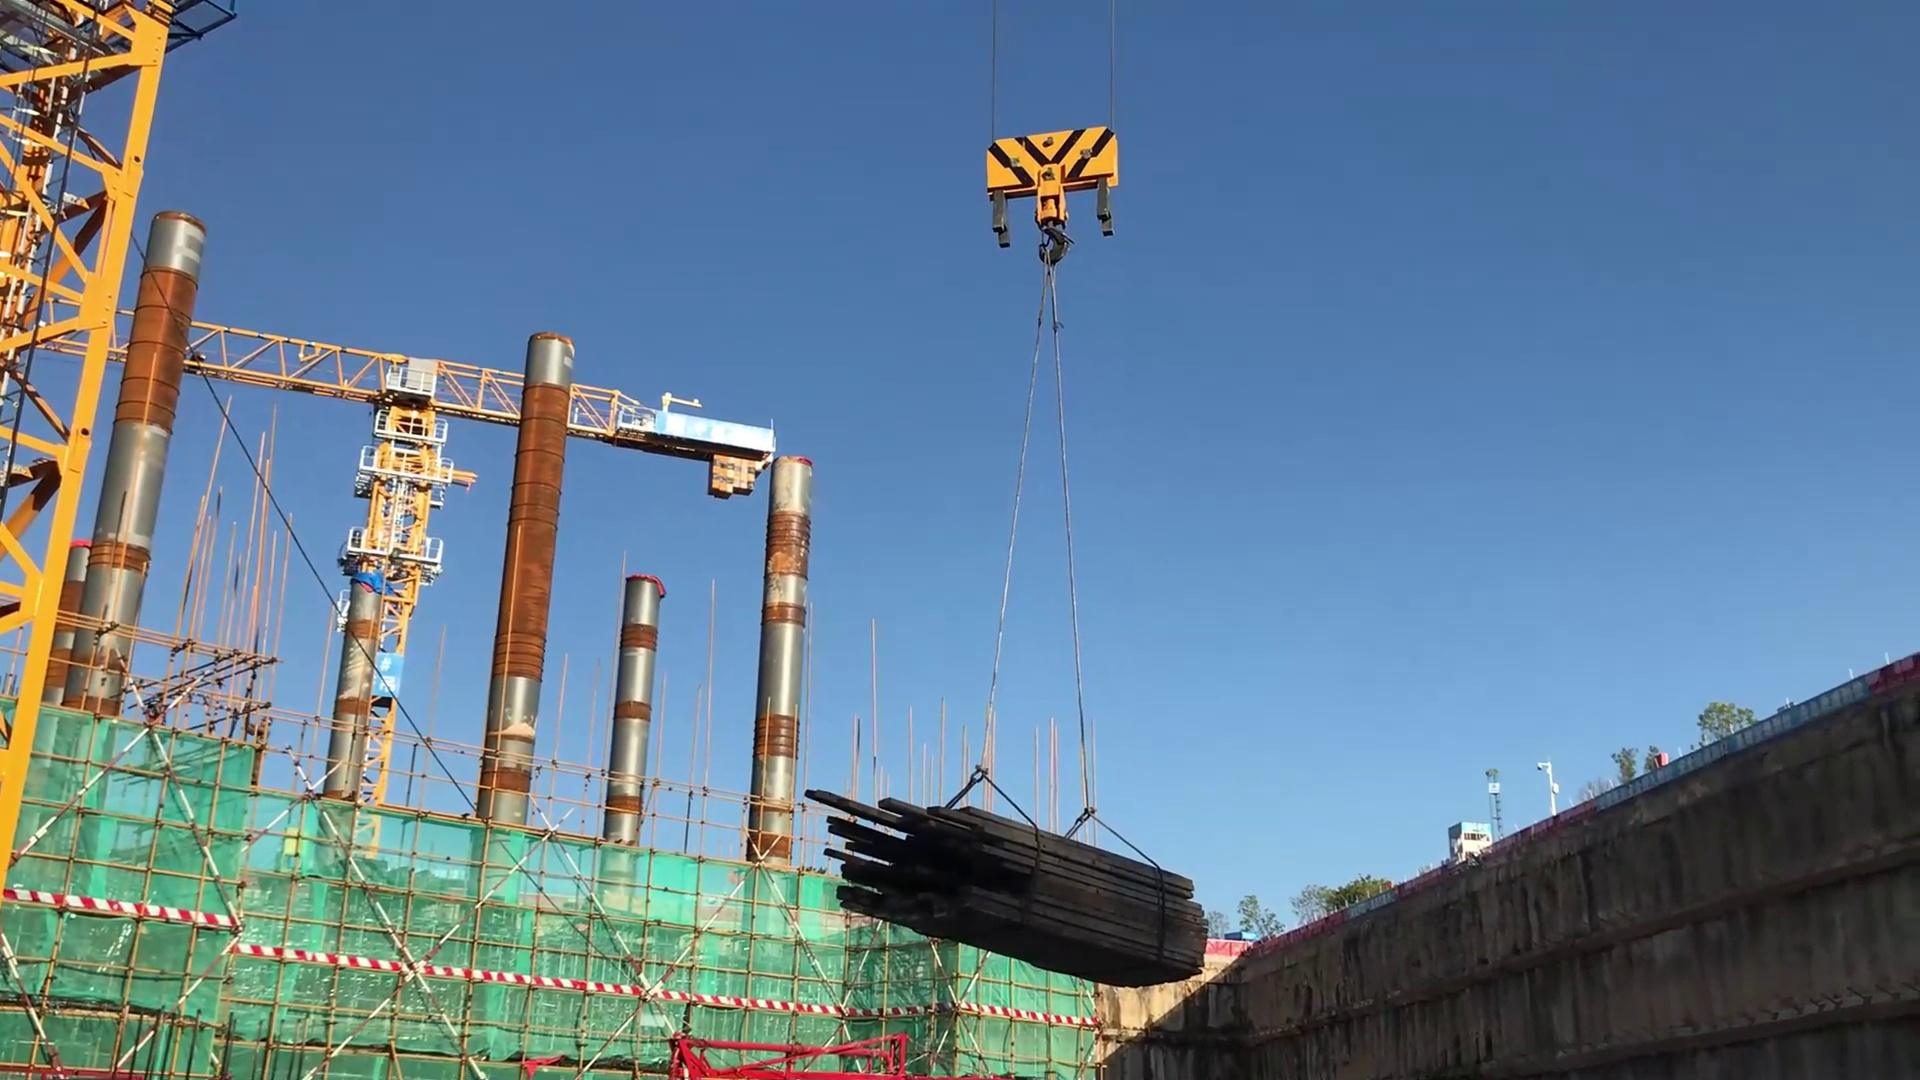hook: (975, 113, 1121, 280)
slogan: (1573, 654, 1894, 804)
wood: (796, 758, 1216, 989)
